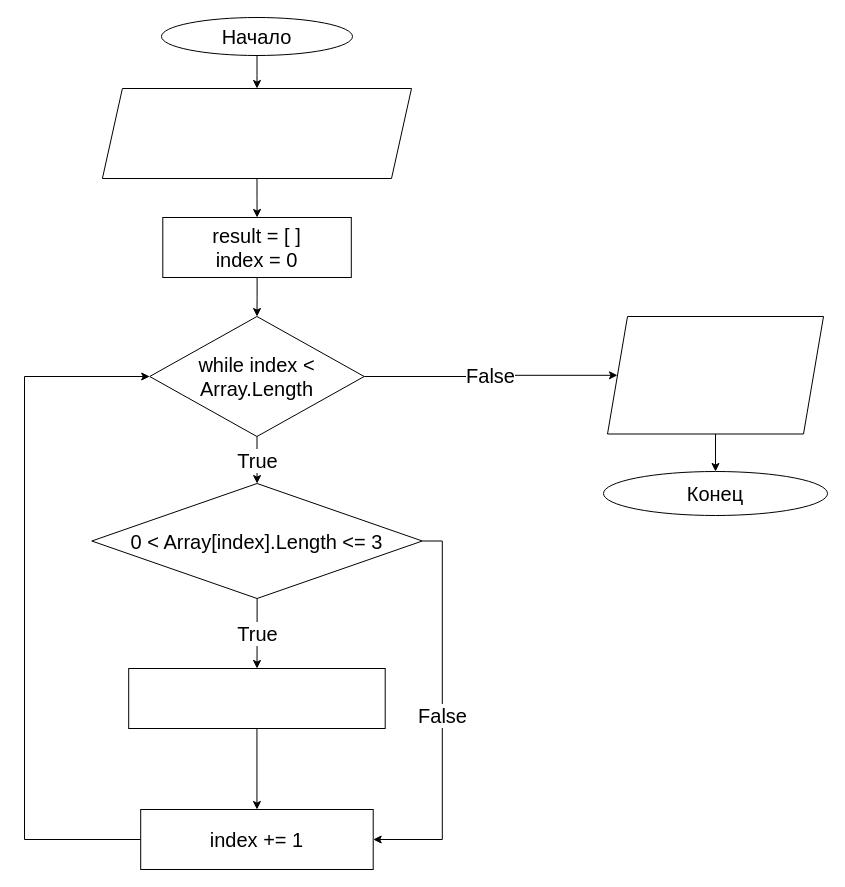
Image size: 845x887. Some labels were removed from this diagram. Here are the shapes that lost their labels. From the top down, the centre of each, then its label:
point 256,133: (принимаемый массив) Array
point 715,375: return result
point 256,698: result.append(Array[index])
